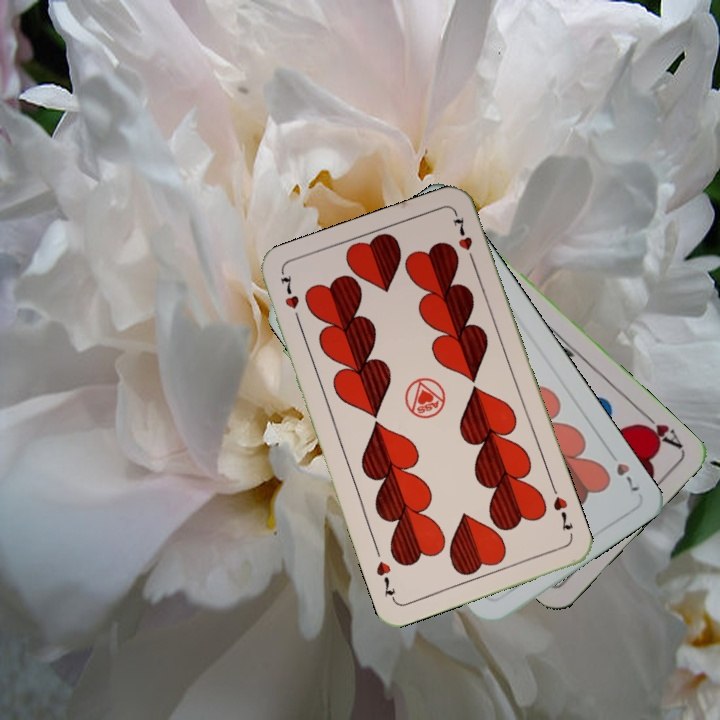H7: (603, 445, 642, 494), (276, 270, 304, 327), (549, 492, 576, 534)
HA: (632, 406, 685, 451)
